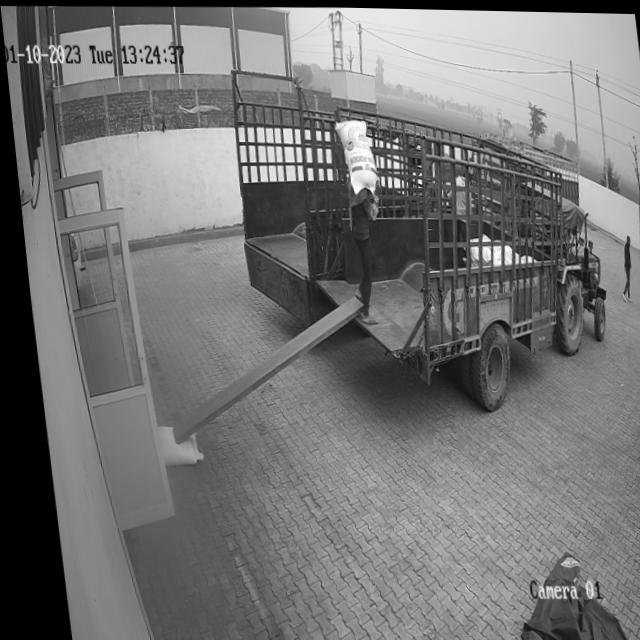sack: (331, 116, 376, 193), (148, 424, 193, 465)
